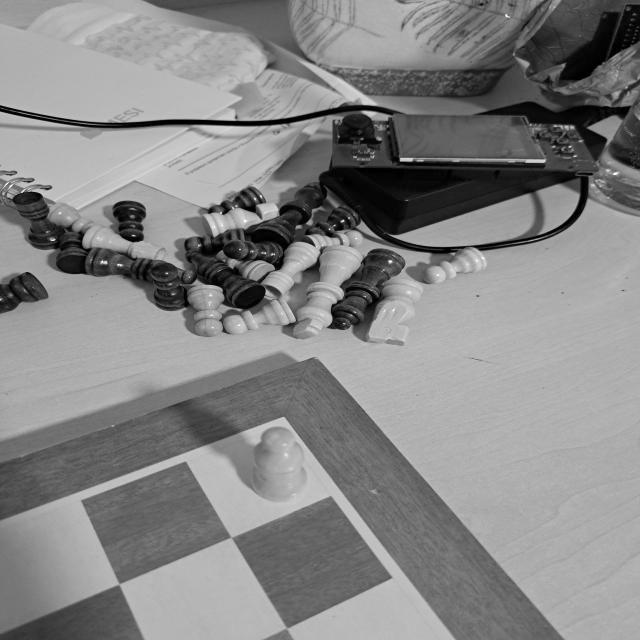chess-table-corners: (269, 408, 296, 426)
